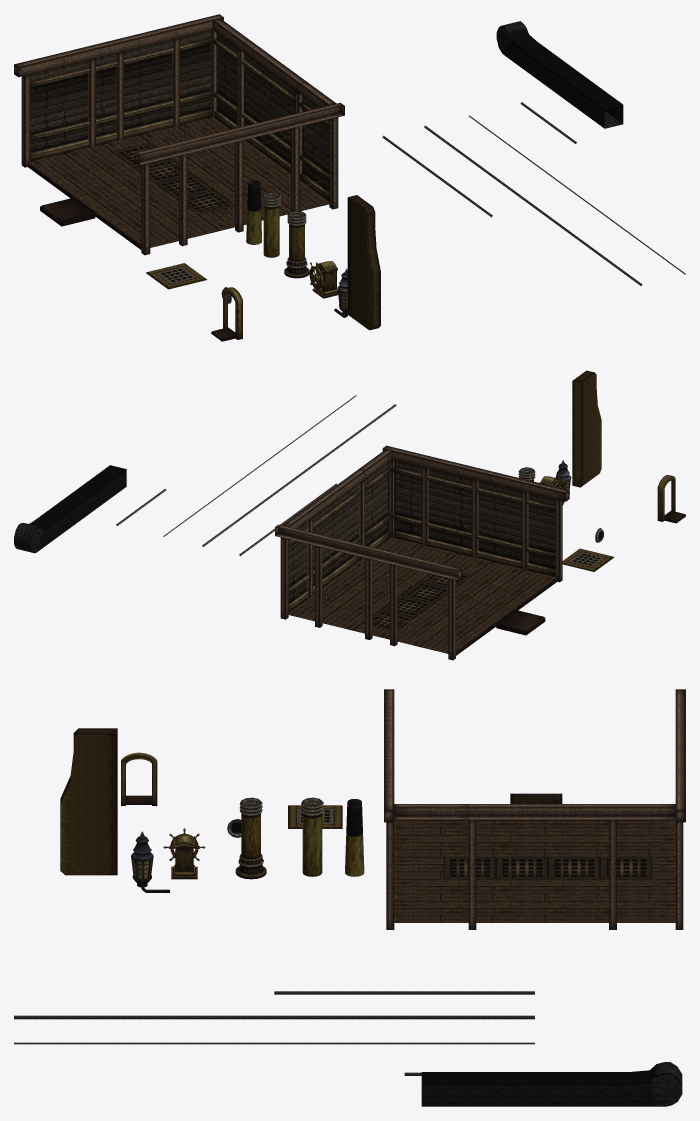
File: EnvMdrMD_Ship_A_Indoor_Cabin_A.FBX
3 renders of one model, top to bottom at view 1: azimuth 30°, elevation 25°; view 2: azimuth 150°, elevation 25°; view 3: azimuth 270°, elevation 25°, orthographic. The views are drawn at different scales.
Parts seen in each view (by area): view 1: EnvMdrMD_Ship_A_Indoor_Cabin_A, EnvMdrMD_Ship_A_Keel_A, EnvMdrMD_Ship_A_Rudder_A, EnvMdrMD_Ship_A_Mast_Start_A, EnvMdrMD_Ship_A_Mast_Loop_A, EnvMdrMD_Ship_A_Mast_End_A, EnvMdrMD_Ship_A_Lattice_A, EnvMdrMD_Ship_A_Rudder_Wheel_A, EnvMdrMD_Ship_A_Outdoor_Entrance_A, EnvMdrMD_Ship_A_Rope_Spline_A; view 2: EnvMdrMD_Ship_A_Indoor_Cabin_A, EnvMdrMD_Ship_A_Keel_A, EnvMdrMD_Ship_A_Rudder_A, EnvMdrMD_Ship_A_Outdoor_Entrance_A, EnvMdrMD_Ship_A_Lattice_A, EnvMdrMD_Ship_A_Rope_Spline_A; view 3: EnvMdrMD_Ship_A_Indoor_Cabin_A, EnvMdrMD_Ship_A_Keel_A, EnvMdrMD_Ship_A_Rudder_A, EnvMdrMD_Ship_A_Rope_Spline_A, EnvMdrMD_Ship_A_Mast_Start_A, EnvMdrMD_Ship_A_Mast_Loop_A, EnvMdrMD_Ship_A_Rope_Spline_A_Thin, EnvMdrMD_Ship_A_Mast_End_A, EnvMdrMD_Ship_A_Rudder_Wheel_A, EnvMdrMD_Ship_A_Rope_Spline_B, EnvMdrMD_Ship_A_Lamp_A, EnvMdrMD_Ship_A_Outdoor_Entrance_A (+1 smaller).
Part boxes in pixels (x1,y1,x2,y2): EnvMdrMD_Ship_A_Indoor_Cabin_A: [14, 14, 344, 255]; EnvMdrMD_Ship_A_Keel_A: [496, 21, 623, 128]; EnvMdrMD_Ship_A_Rudder_A: [347, 195, 380, 330]; EnvMdrMD_Ship_A_Mast_Start_A: [284, 210, 309, 278]; EnvMdrMD_Ship_A_Mast_Loop_A: [262, 192, 280, 257]; EnvMdrMD_Ship_A_Mast_End_A: [246, 180, 261, 244]; EnvMdrMD_Ship_A_Lattice_A: [146, 263, 206, 289]; EnvMdrMD_Ship_A_Rudder_Wheel_A: [308, 261, 338, 298]; EnvMdrMD_Ship_A_Outdoor_Entrance_A: [211, 287, 242, 341]; EnvMdrMD_Ship_A_Rope_Spline_A: [424, 125, 642, 285]; EnvMdrMD_Ship_A_Indoor_Cabin_A: [275, 445, 569, 660]; EnvMdrMD_Ship_A_Keel_A: [14, 465, 126, 553]; EnvMdrMD_Ship_A_Rudder_A: [572, 370, 601, 487]; EnvMdrMD_Ship_A_Outdoor_Entrance_A: [657, 475, 685, 523]; EnvMdrMD_Ship_A_Lattice_A: [562, 548, 614, 571]; EnvMdrMD_Ship_A_Rope_Spline_A: [202, 404, 396, 546]; EnvMdrMD_Ship_A_Indoor_Cabin_A: [384, 689, 685, 929]; EnvMdrMD_Ship_A_Keel_A: [421, 1062, 682, 1106]; EnvMdrMD_Ship_A_Rudder_A: [60, 728, 117, 875]; EnvMdrMD_Ship_A_Rope_Spline_A: [14, 1015, 534, 1019]; EnvMdrMD_Ship_A_Mast_Start_A: [235, 797, 266, 879]; EnvMdrMD_Ship_A_Mast_Loop_A: [301, 797, 323, 876]; EnvMdrMD_Ship_A_Rope_Spline_A_Thin: [14, 1042, 534, 1044]; EnvMdrMD_Ship_A_Mast_End_A: [345, 799, 364, 876]; EnvMdrMD_Ship_A_Rudder_Wheel_A: [163, 828, 205, 879]; EnvMdrMD_Ship_A_Rope_Spline_B: [274, 991, 534, 994]; EnvMdrMD_Ship_A_Lamp_A: [131, 831, 169, 892]; EnvMdrMD_Ship_A_Outdoor_Entrance_A: [121, 752, 157, 806].
Bounding box in the file's own units: 2809 × 672 × 2580.
Materials: 2 (2 with a texture image).
